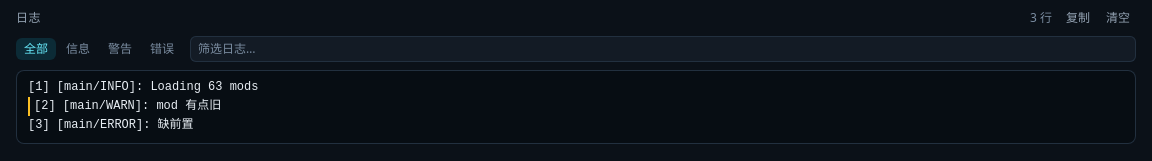
Test case: LogPanel 筛选与复制 › 按级别筛选只留下对应行
Click the button "警告". click: [120, 49]
box: [100,38,140,60]
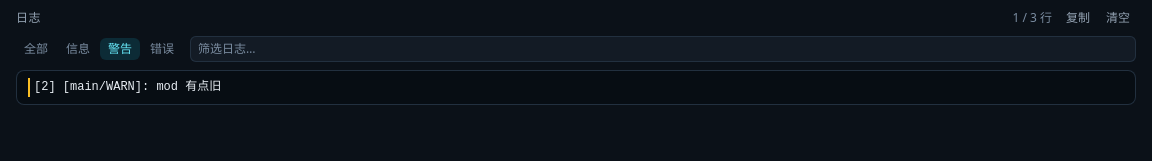
Check: the text "[2] [main/WARN]: mod 有点旧" is shown, box [28,78,1124,97]
Check: the text "Loading 63 mods" is gone
Check: the text "缺前置" is gone
